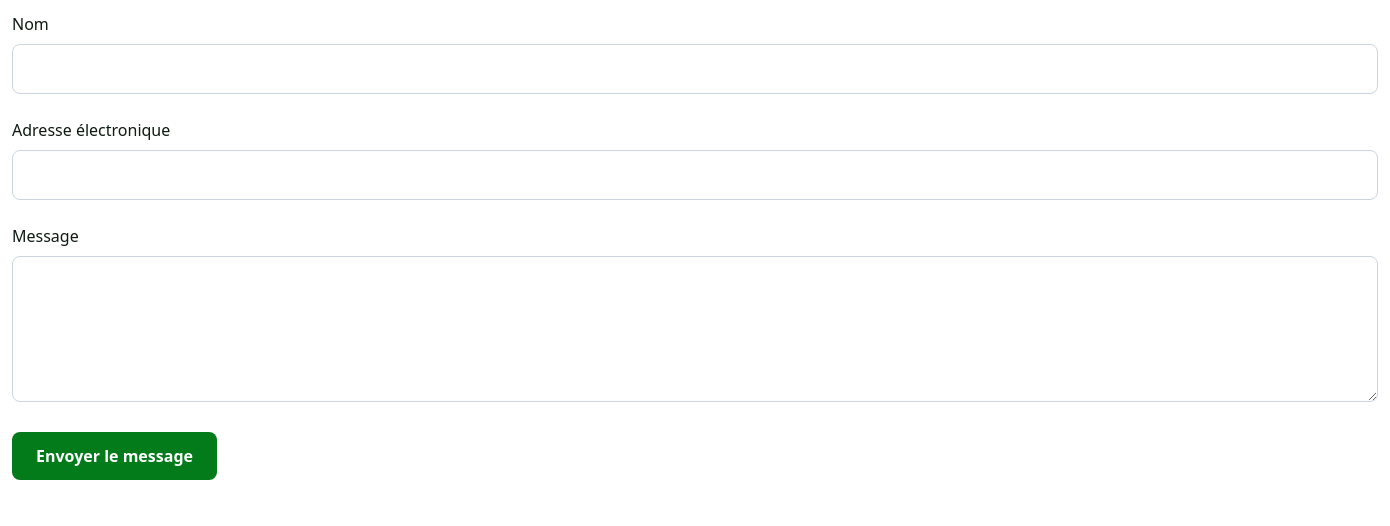
Scenario: Formulaire de contact › refuse une adresse sans arobase
The image size is (1390, 526).
Type "Ronald Bill" into the field labelled "Nom" at (695, 69), box [12,44,1378,94]
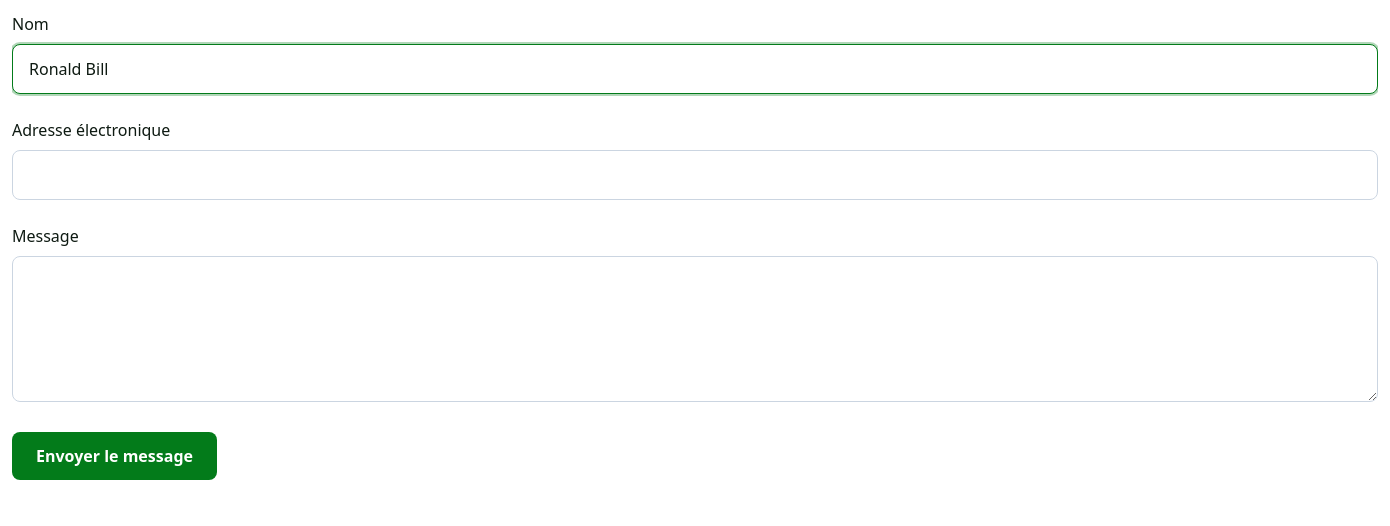
Type "adresse-sans-arobase" into the field labelled "Adresse électronique" at (695, 175), box [12,150,1378,200]
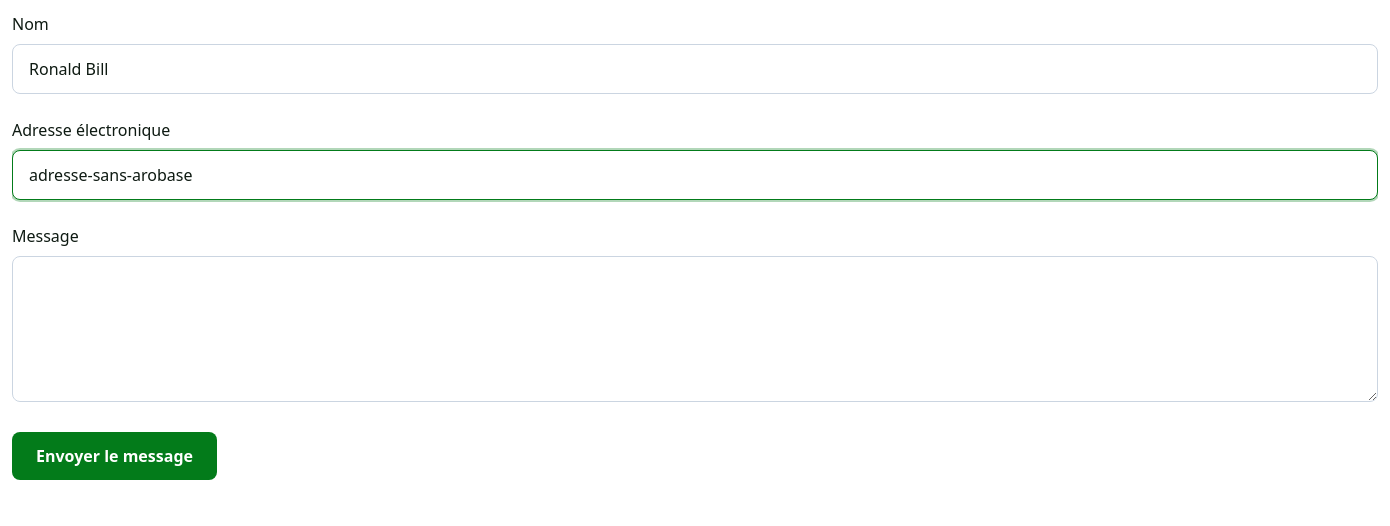
Type "Bonjour, je souhaite un devis pour un site vitrine." into the text box labelled "Message" at (695, 329), box [12,256,1378,402]
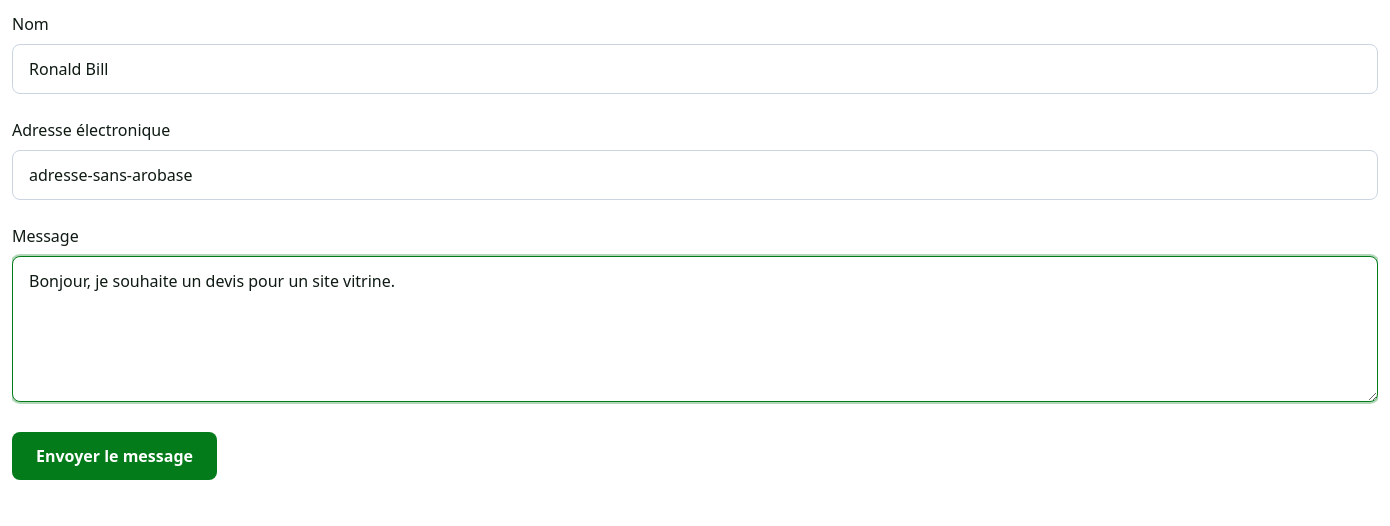
Click the button "Envoyer le message" at (114, 456), box [12,432,217,480]
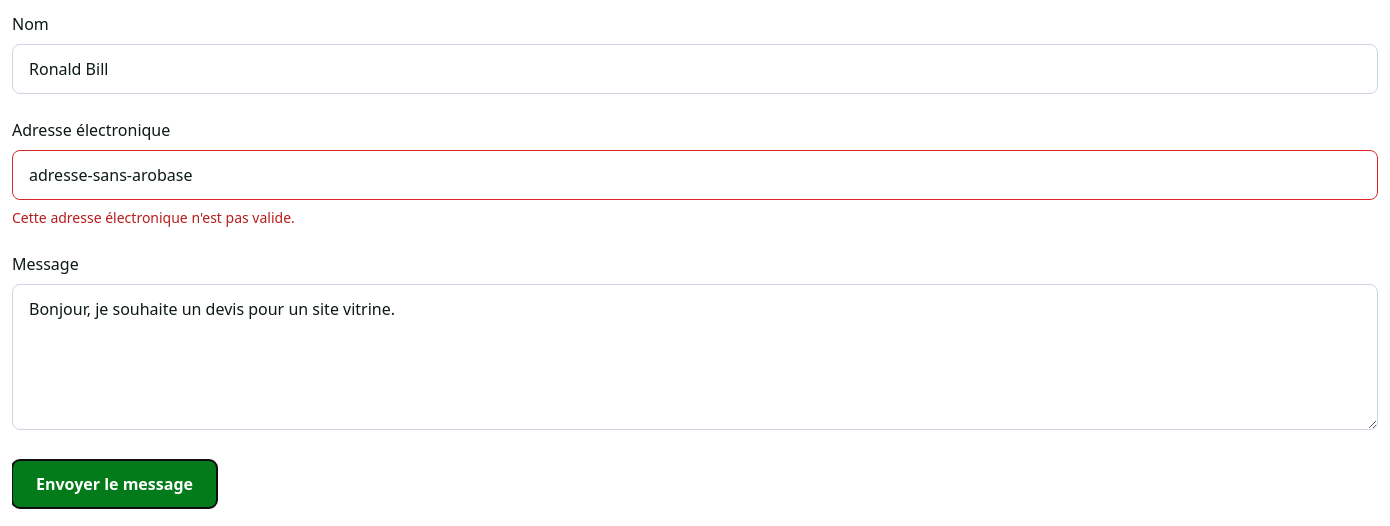
expect the text "Cette adresse électronique n'est pas valide." is shown: met, box [12,208,295,227]
